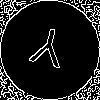Y: (25, 25, 69, 78)
